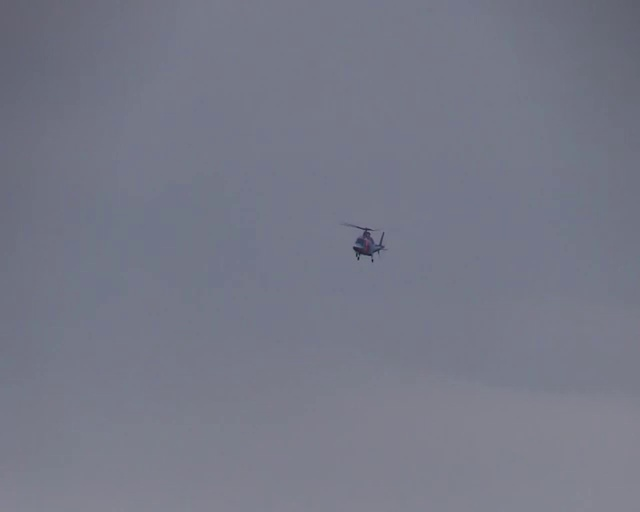HELICOPTER: (339, 221, 387, 263)
